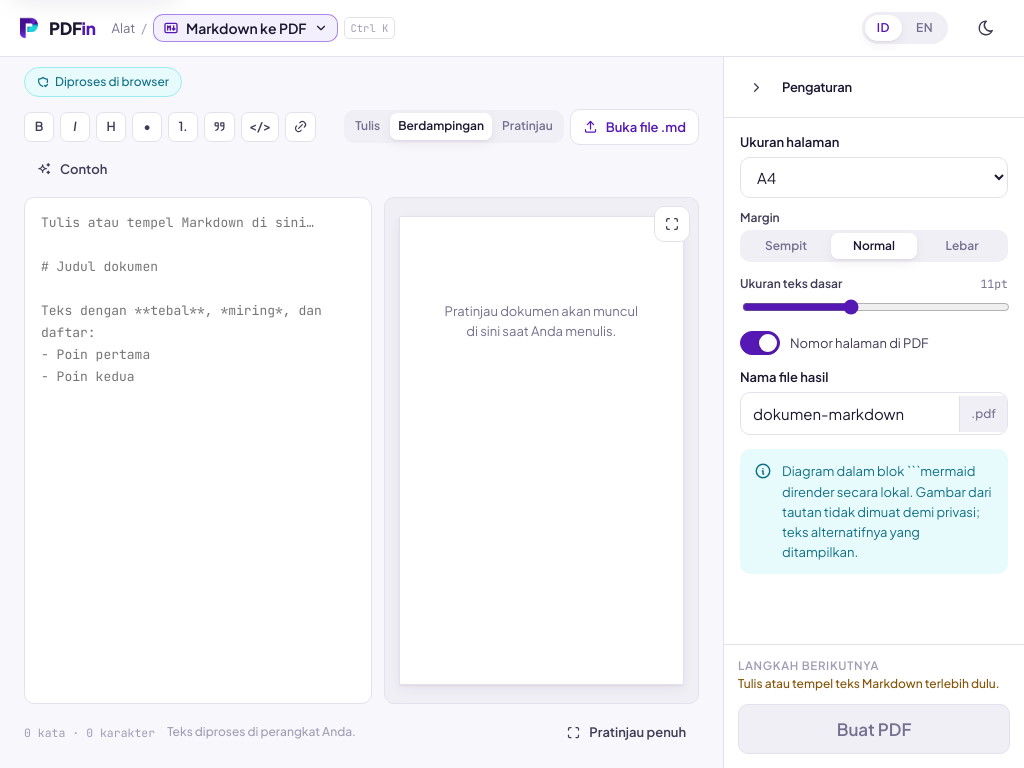
Test: Markdown to PDF tool › loads the bundled sample document into the editor
Click the button "Contoh" at (72, 169), box [24,151,120,187]
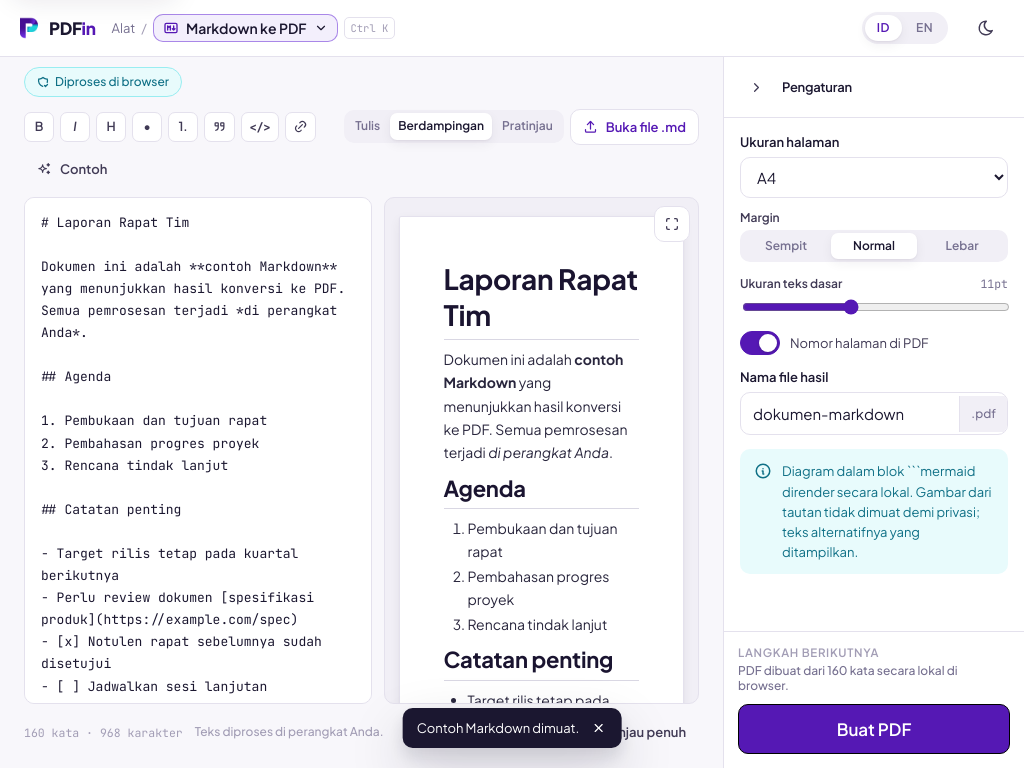
Result: the heading "Laporan Rapat Tim" is shown at [444,261,639,340]
